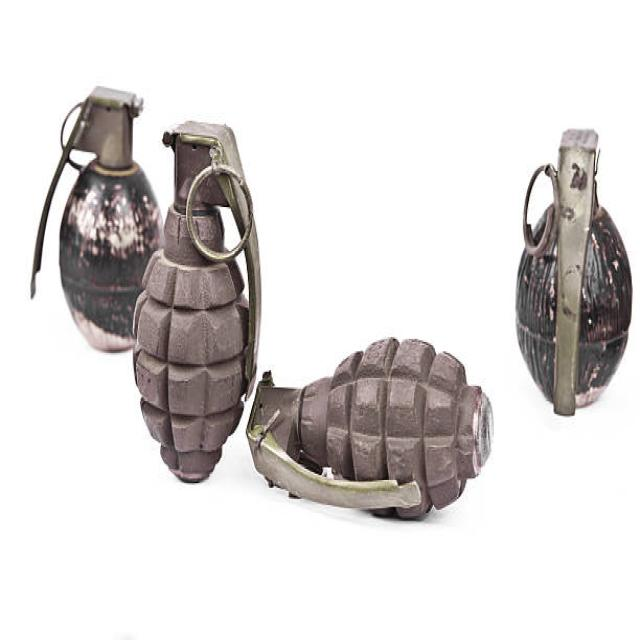grenade: (125, 108, 266, 486), (248, 331, 503, 527), (511, 118, 640, 428), (25, 81, 166, 354)
